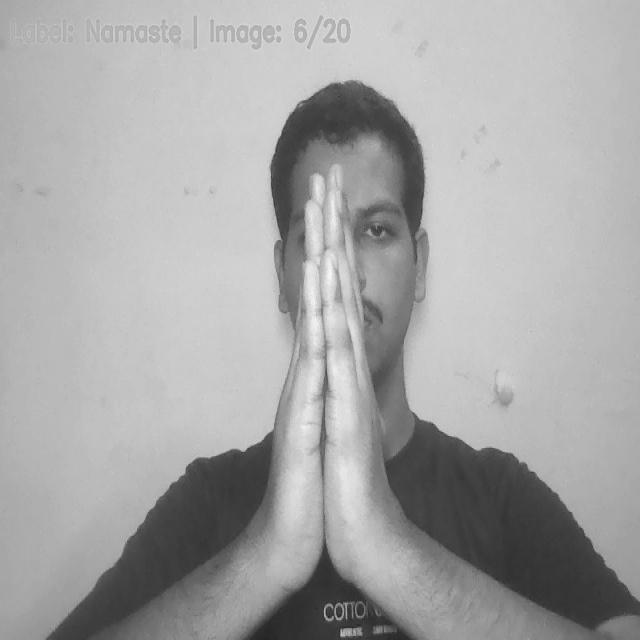Namaste: (267, 163, 385, 596)
